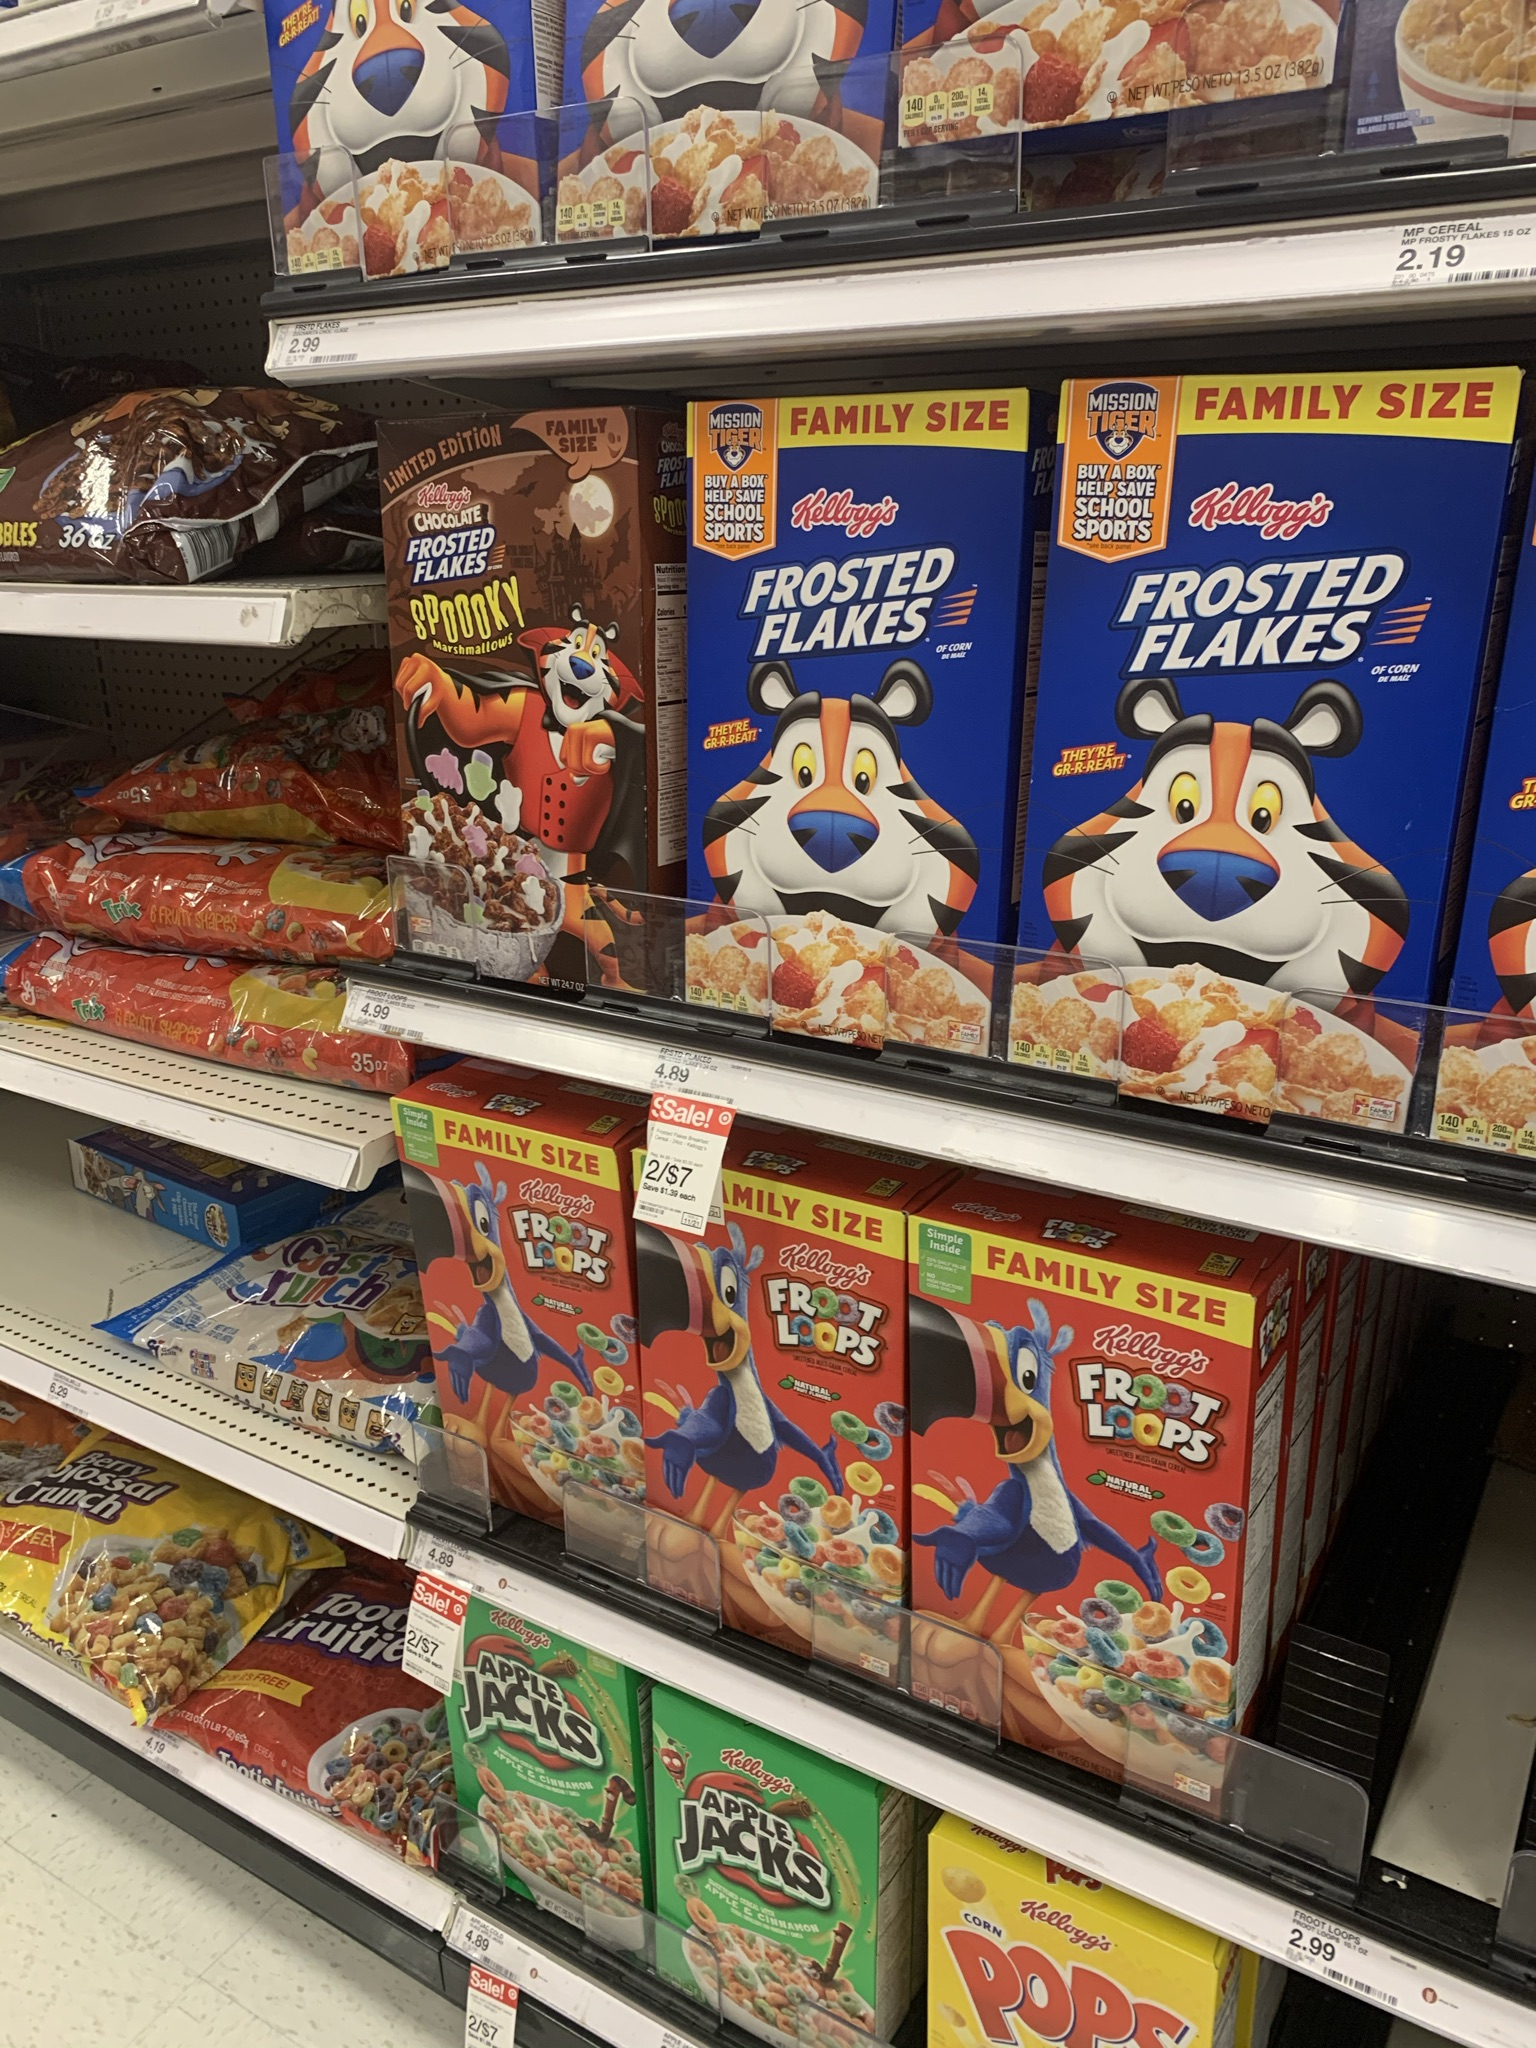box: (1065, 387, 1436, 976), (697, 413, 983, 908), (920, 1234, 1246, 1666), (400, 440, 645, 853), (649, 1240, 904, 1584), (440, 1176, 637, 1453), (453, 1661, 631, 1906), (653, 1784, 879, 1974)
